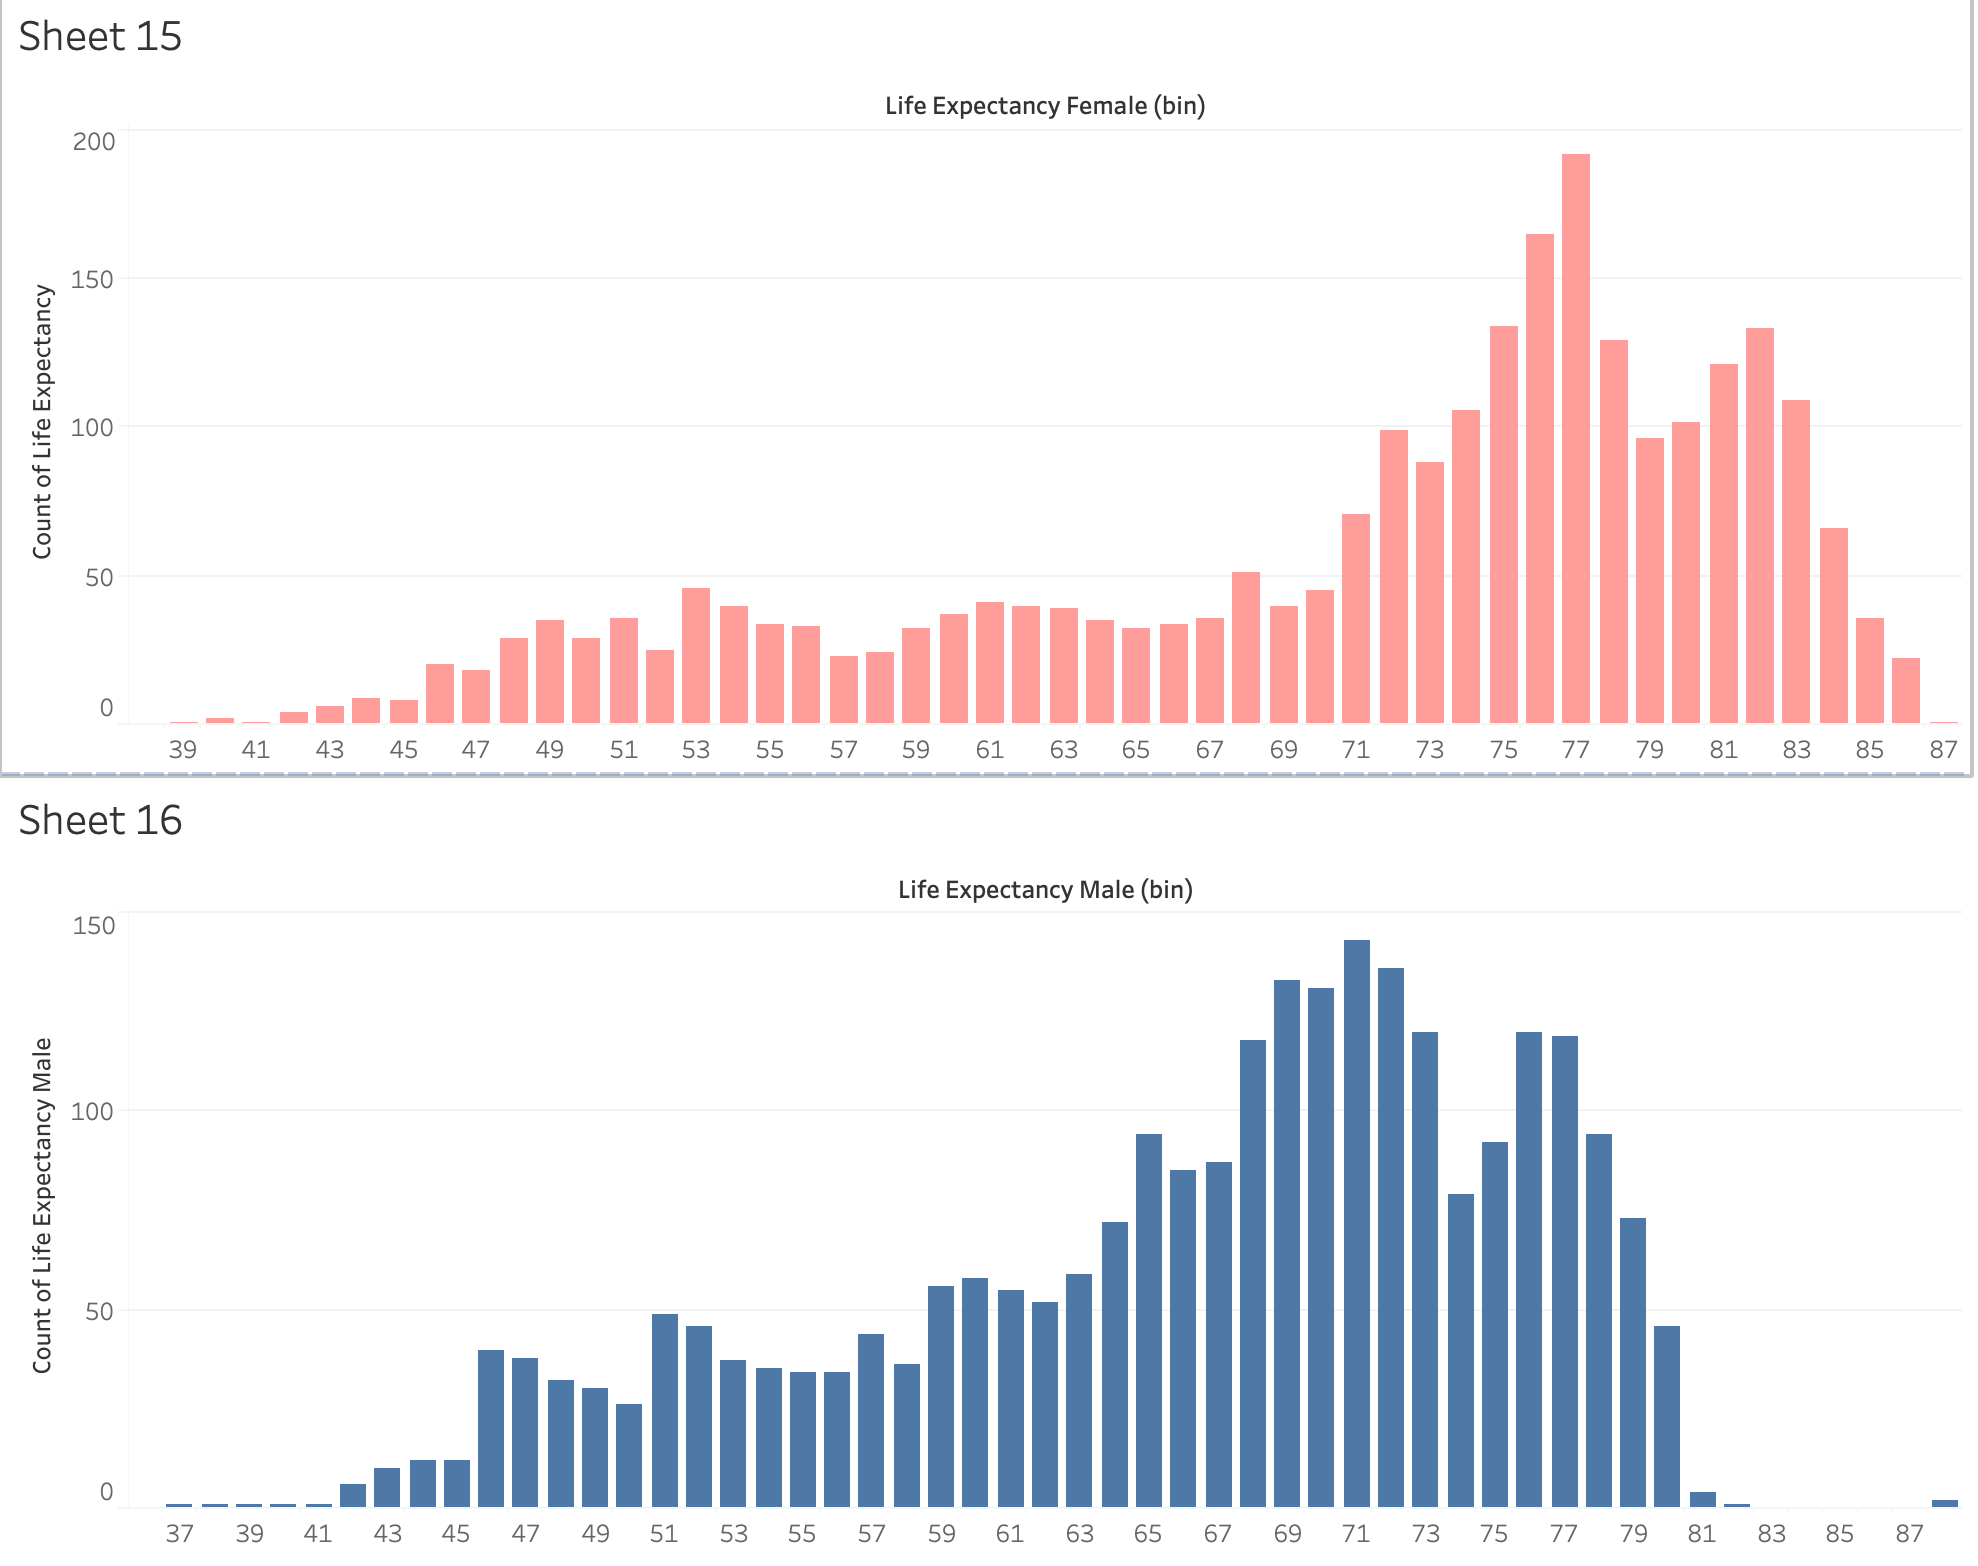

What the dashboard file says about the page in this screenshot:
{"tool":"tableau","page":{"name":"Dashboard 3","canvas":[1000,800],"ordinal":1},"visuals":[{"type":"worksheet","title":"Sheet 15","mark":"Automatic","rows":["Calculation_638103803600809984"],"cols":["Life Expectancy Female (bin)"],"box":[8,8,984,392]},{"type":"worksheet","title":"Sheet 16","mark":"Automatic","rows":["Life Expectancy Male"],"cols":["Life Expectancy Male (bin)"],"box":[8,400,984,392]}]}

Visuals, with their boxes in screenshot pixels (x1, y1, x2, y2), scaled from the page's 1000x800 canvas onto the 1978x1566 screenshot:
"Sheet 15" worksheet: detection(16, 16, 1962, 783)
"Sheet 16" worksheet: detection(16, 783, 1962, 1550)
